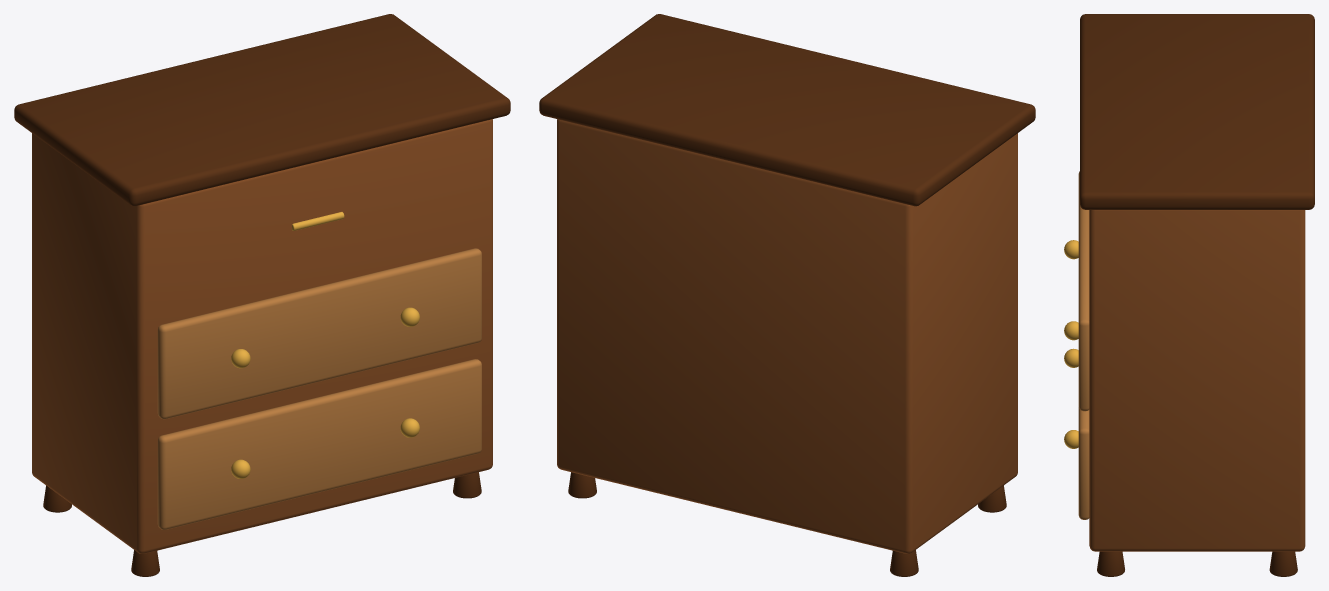
File: dresser.glb
The picture shows the model from 3 angles, left to right: view 1: azimuth 30°, elevation 25°; view 2: azimuth 150°, elevation 25°; view 3: azimuth 270°, elevation 25°; orthographic projection.
Visible parts, largest first — view 1: dresser; view 2: dresser; view 3: dresser.
Part boxes in pixels (<box>): dresser: <box>14,14,510,576</box>; dresser: <box>539,14,1035,576</box>; dresser: <box>1064,14,1314,576</box>.
Bounding box in the file's own units: 0.9 × 0.9 × 0.523.
